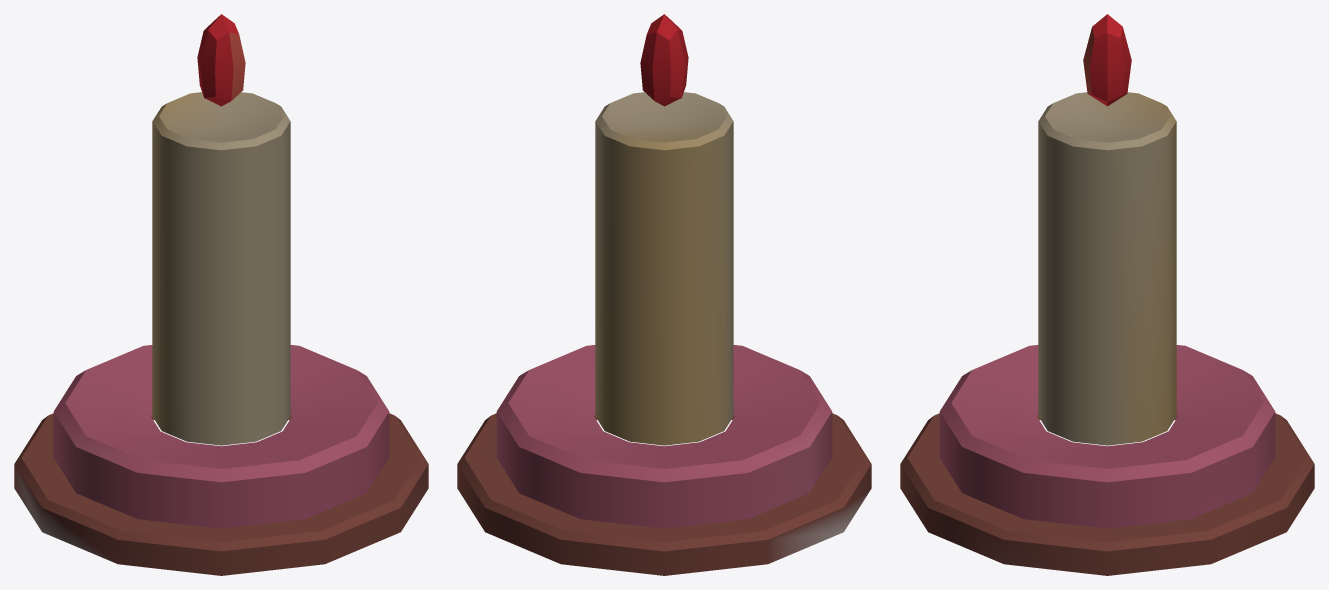
The model's file is mv_candle.fbx.
The picture shows the model from 3 angles, left to right: view 1: azimuth 30°, elevation 25°; view 2: azimuth 150°, elevation 25°; view 3: azimuth 270°, elevation 25°; orthographic projection.
Visible parts, largest first — view 1: mv_candle_1; view 2: mv_candle_1; view 3: mv_candle_1.
Boxes of the visible parts, x1,y1,x2,y2 form: mv_candle_1: [14, 14, 428, 575]; mv_candle_1: [457, 14, 871, 575]; mv_candle_1: [900, 14, 1314, 575].
Size of the model in its own units: 0.2596 by 0.2596 by 0.3281.
